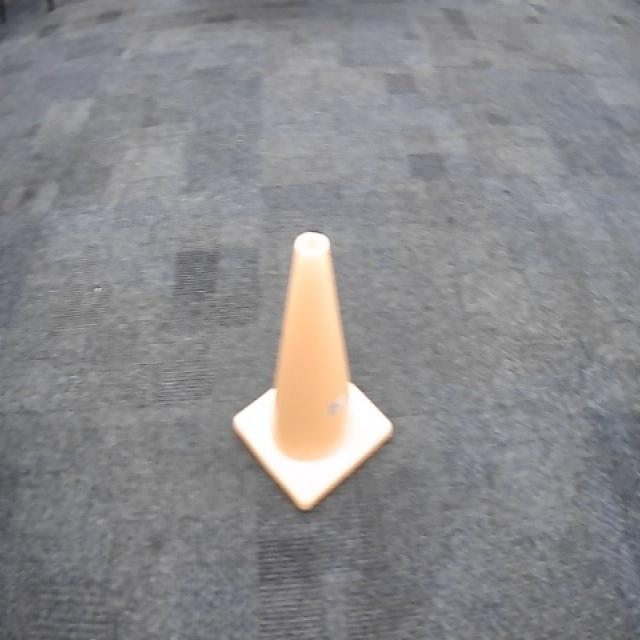cone: (233, 228, 394, 516)
